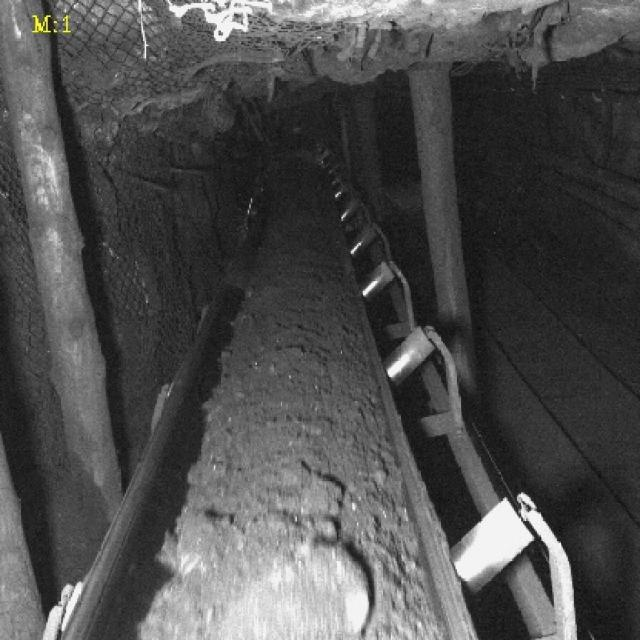large_sized_coal: (225, 543, 369, 640)
